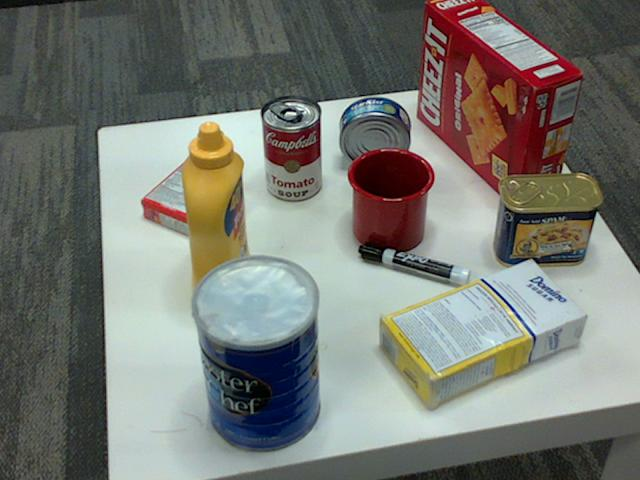cracker_box: (416, 0, 582, 206)
gelatin_box: (139, 156, 237, 235)
large_marker: (359, 243, 471, 290)
master_chef_can: (189, 257, 319, 455)
mug: (344, 146, 433, 252)
mustard_bottle: (178, 122, 250, 308)
potted_meat_can: (491, 174, 600, 268)
sugar_box: (375, 258, 584, 408)
tomato_soup_can: (260, 95, 321, 201)
tuna_fish_can: (337, 96, 409, 170)
